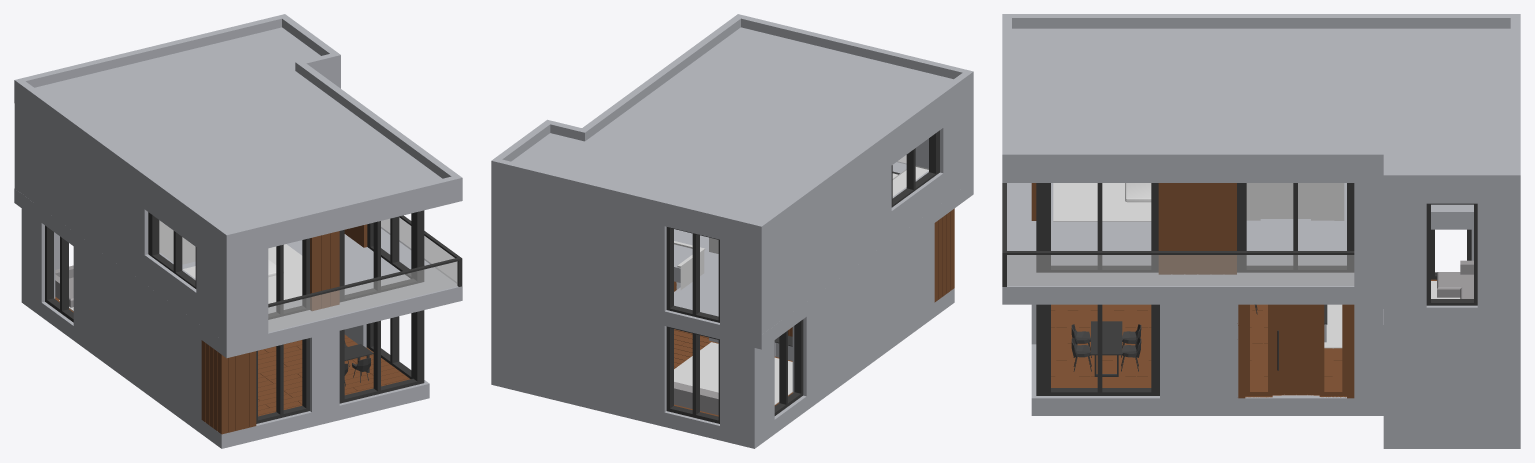
The model's file is KV_House.glb.
The picture shows the model from 3 angles, left to right: view 1: azimuth 30°, elevation 25°; view 2: azimuth 150°, elevation 25°; view 3: azimuth 270°, elevation 25°; orthographic projection. The views are drawn at different scales.
Parts seen in each view (by area): view 1: Roof, Cube.019, Cube.026, SecondFoundation, Balcony, Foundation, FirstFloor, Cube.003, Cube.004, LeftWall, Cube.022, Cube.023 (+9 smaller); view 2: Roof, Cube.009, Cube.018, Cube.019, Cube.026, SecondFoundation, Foundation, Cube, LeftWall, Cube.021, Cube.029, Carpet.001 (+5 smaller); view 3: Roof, SecondFoundation, Cube.009, Balcony, Cube.018, Foundation, FirstFloor, Cube.002, Cube.007, Cube.027, Carpet, Cube.041 (+10 smaller).
Part boxes in pixels (<box>): Roof: <box>14,14,462,258</box>; Cube.019: <box>34,117,268,343</box>; Cube.026: <box>73,246,256,434</box>; SecondFoundation: <box>14,188,462,358</box>; Balcony: <box>268,215,462,332</box>; Foundation: <box>21,288,429,448</box>; FirstFloor: <box>55,297,410,416</box>; Cube.003: <box>310,331,339,412</box>; Cube.004: <box>339,310,424,403</box>; LeftWall: <box>21,208,59,302</box>; Cube.022: <box>310,231,339,310</box>; Cube.023: <box>339,210,424,302</box>; Roof: <box>491,14,973,249</box>; Cube.009: <box>491,283,666,412</box>; Cube.018: <box>491,183,666,312</box>; Cube.019: <box>781,94,973,320</box>; Cube.026: <box>792,208,954,396</box>; SecondFoundation: <box>491,161,973,349</box>; Foundation: <box>491,288,954,448</box>; Cube: <box>720,236,781,335</box>; LeftWall: <box>720,339,774,434</box>; Cube.021: <box>666,326,719,423</box>; Cube.029: <box>666,227,719,322</box>; Carpet.001: <box>674,342,792,404</box>; Roof: <box>1002,14,1520,203</box>; SecondFoundation: <box>1002,183,1520,324</box>; Cube.009: <box>1354,304,1520,431</box>; Balcony: <box>1002,183,1354,286</box>; Cube.018: <box>1354,183,1520,308</box>; Foundation: <box>1031,344,1520,448</box>; FirstFloor: <box>1051,279,1436,387</box>; Cube.002: <box>1237,304,1354,398</box>; Cube.007: <box>1160,304,1238,398</box>; Cube.027: <box>1158,183,1236,274</box>; Carpet: <box>1053,183,1151,221</box>; Cube.041: <box>1246,183,1334,220</box>.
Size of the model in its own units: 9.75 by 7.72 by 13.25.
